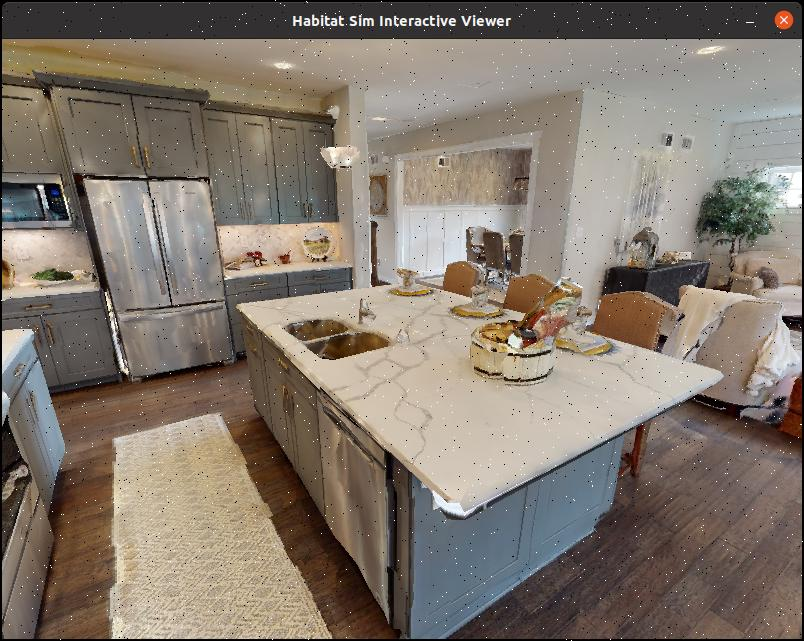sink: (277, 302, 393, 381)
table: (223, 245, 756, 619)
